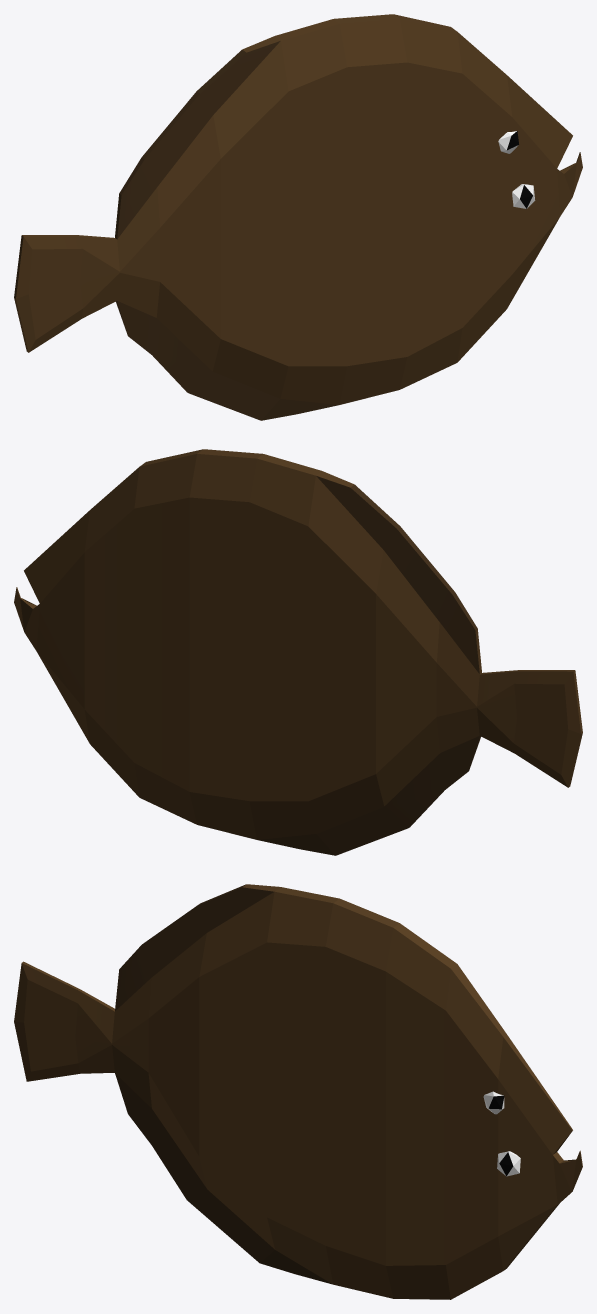
The model's file is Halibut.glb.
The picture shows the model from 3 angles, top to bottom: view 1: azimuth 30°, elevation 25°; view 2: azimuth 150°, elevation 25°; view 3: azimuth 330°, elevation 25°; orthographic projection.
Parts seen in each view (by area): view 1: Halibut; view 2: Halibut; view 3: Halibut.
Boxes of the visible parts, x1,y1,x2,y2 form: Halibut: (14,14,582,420); Halibut: (14,449,582,855); Halibut: (14,884,582,1299).
Size of the model in its own units: 1.43 by 0.9227 by 0.0942.
Materials: 1 (1 with a texture image).
